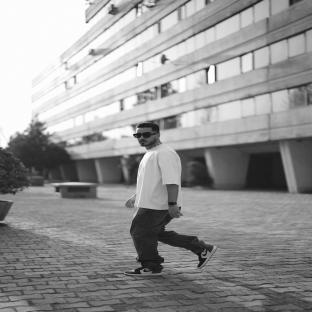Human: (124, 122, 217, 277)
